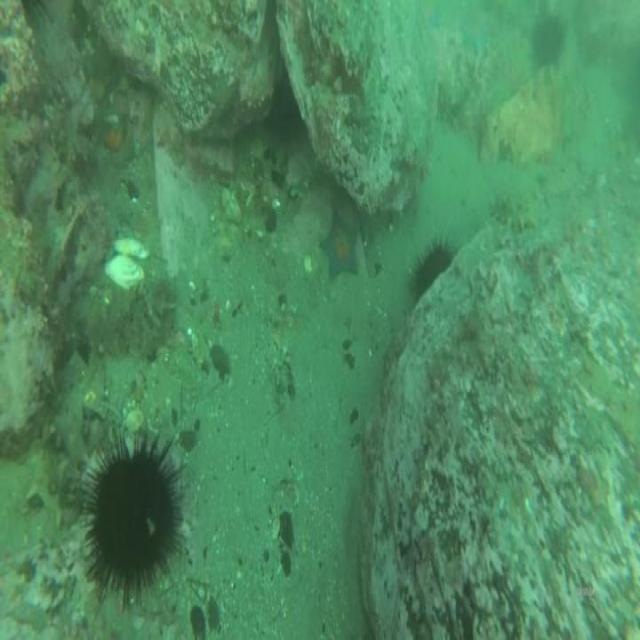echinus: (90, 438, 181, 607), (412, 240, 452, 308), (529, 11, 568, 70)
holothurian: (489, 188, 539, 234)
scallop: (103, 231, 149, 294)
starfish: (320, 204, 364, 284)
